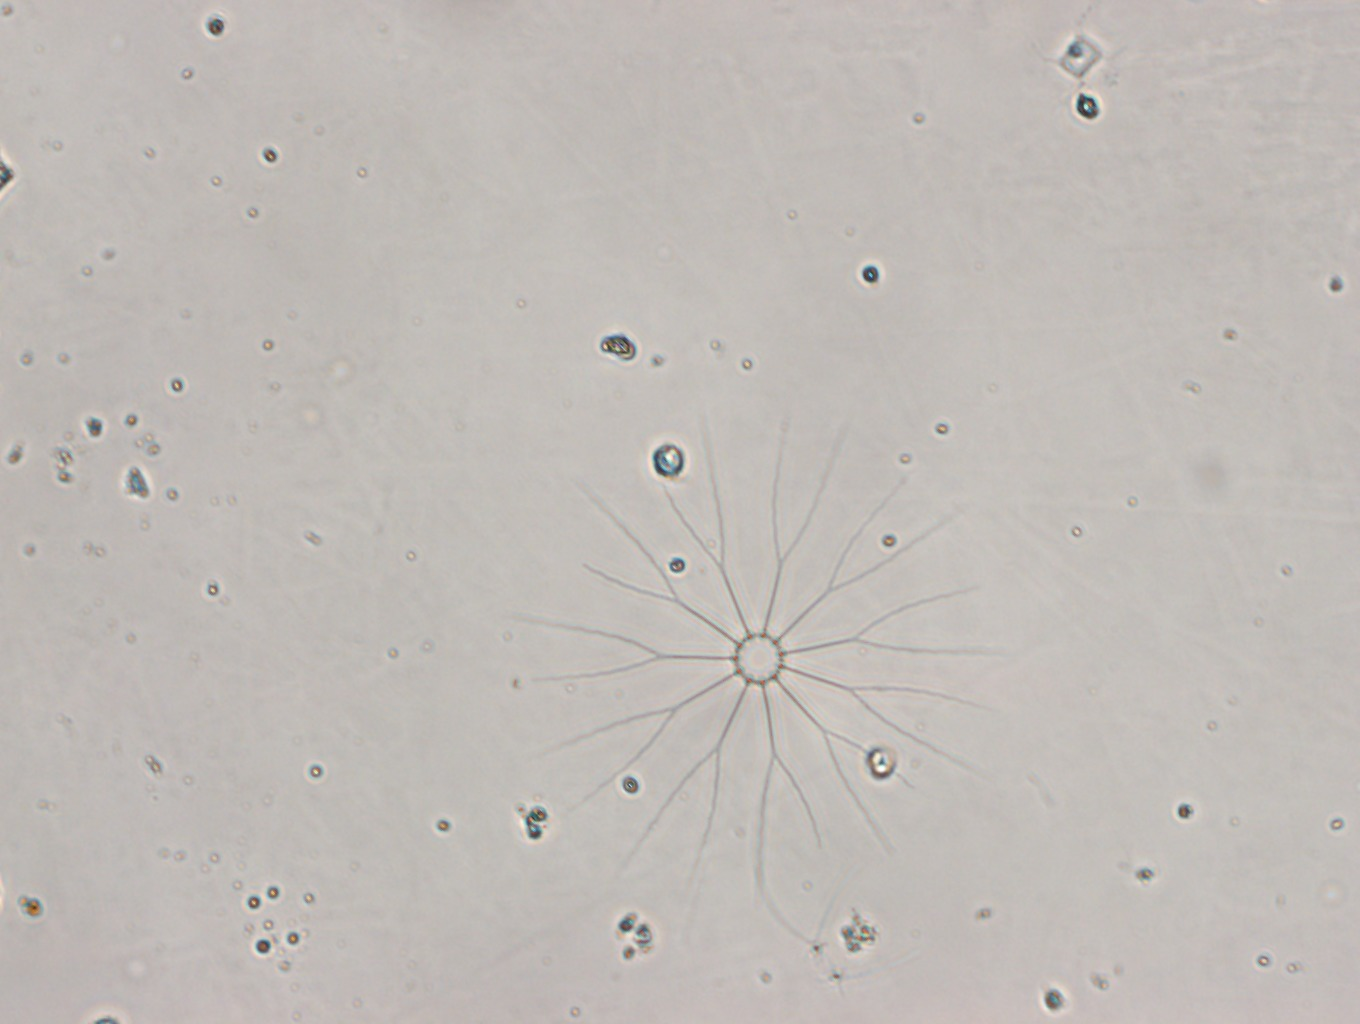bacteriastrum: (522, 416, 1007, 890)
